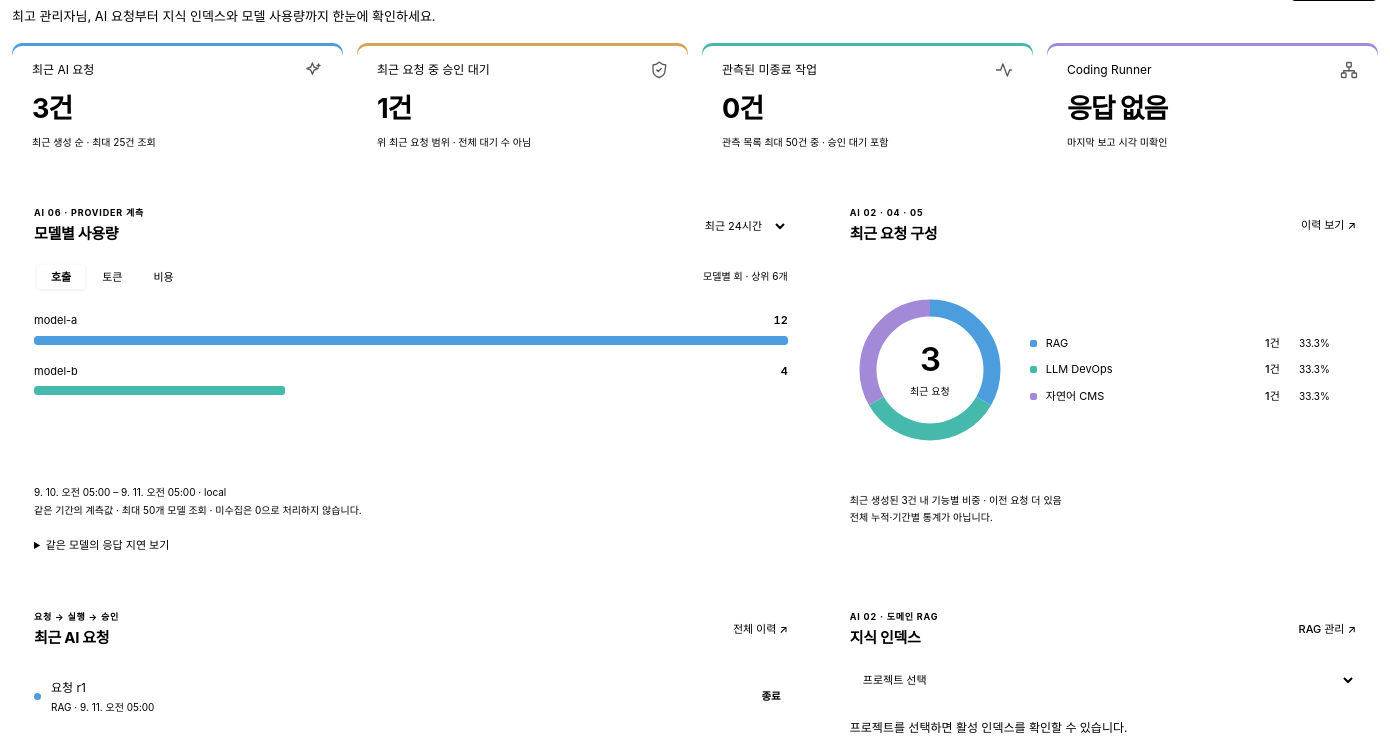
Scenario: RAG requires a project choice and reads the explicitly active version without using score
This screenshot has width=1390, height=737.
Select "둘째 프로젝트" in the dropdown named "대시보드 RAG 프로젝트" at coordinates (1103, 680), box [850,666,1356,694]
(page scrolled)
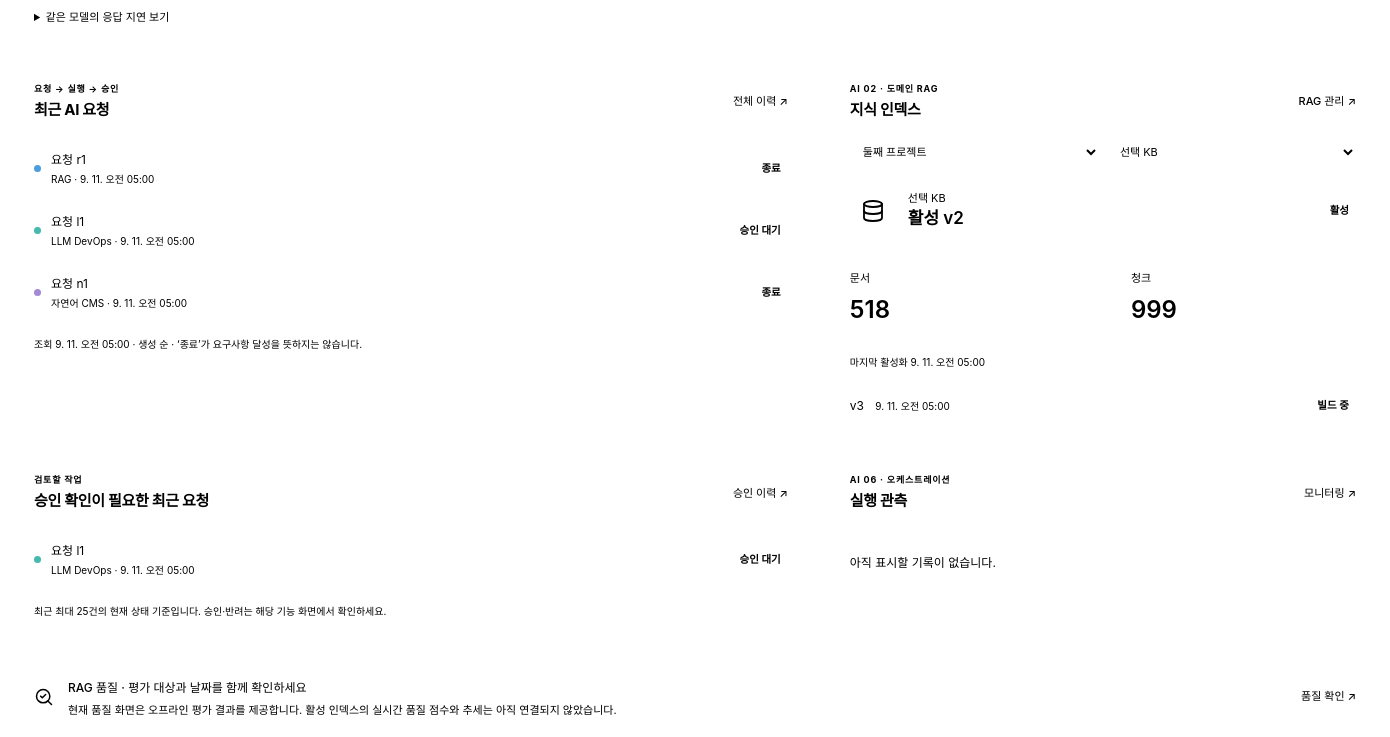
Expected: the text "활성 v2" is shown, [908,208,964,228]
Expected: the text "518" is shown, [850,295,890,324]
Expected: the text "999" is shown, [1131,295,1177,324]
